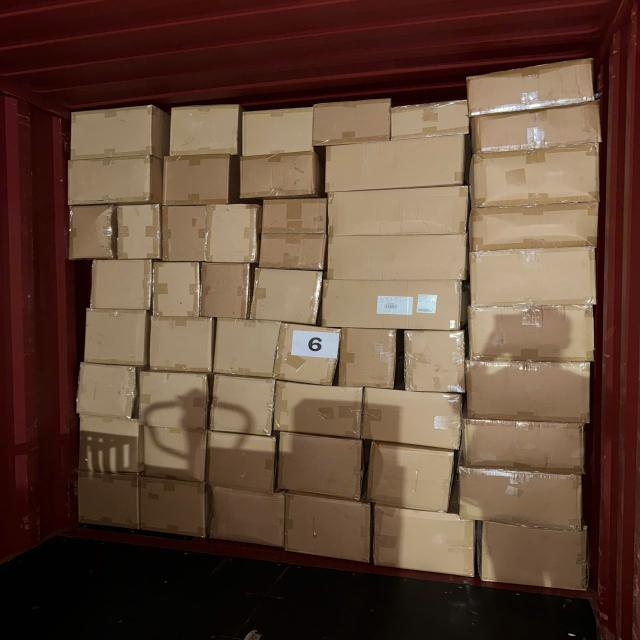Carton: (469, 142, 602, 210), (466, 55, 604, 119), (468, 245, 600, 311), (456, 462, 588, 526), (465, 359, 593, 424), (470, 298, 599, 361), (482, 522, 591, 595), (374, 505, 478, 581), (326, 184, 470, 238), (319, 278, 466, 330), (471, 98, 602, 156), (324, 232, 470, 284), (325, 136, 468, 189), (468, 200, 600, 254), (459, 416, 588, 470), (360, 385, 460, 450), (284, 494, 369, 568), (365, 445, 451, 515), (279, 434, 366, 503), (71, 106, 169, 160), (272, 382, 362, 439), (209, 485, 287, 548), (258, 198, 326, 270), (68, 159, 164, 209), (137, 368, 209, 431), (208, 430, 279, 493), (208, 374, 275, 436), (141, 476, 210, 536), (253, 268, 324, 326), (403, 328, 466, 393), (213, 318, 278, 378), (239, 154, 320, 202), (140, 427, 206, 485), (86, 312, 150, 371), (80, 414, 144, 473), (152, 318, 217, 376), (277, 326, 339, 386), (79, 472, 142, 531), (389, 98, 473, 142), (243, 108, 316, 158), (163, 157, 232, 209), (172, 106, 242, 157), (341, 329, 398, 390), (316, 104, 392, 148), (76, 361, 135, 417), (90, 259, 153, 310), (208, 201, 259, 262), (200, 263, 252, 320), (162, 204, 210, 262), (67, 204, 114, 260), (152, 261, 198, 318), (116, 205, 162, 262)
